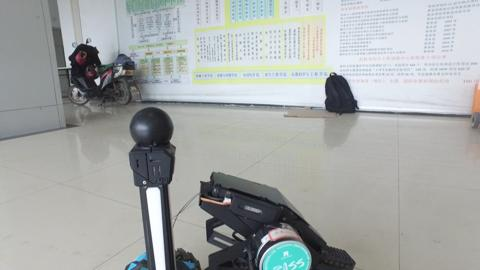bag: (299, 55, 384, 129)
chariot: (111, 114, 355, 270)
